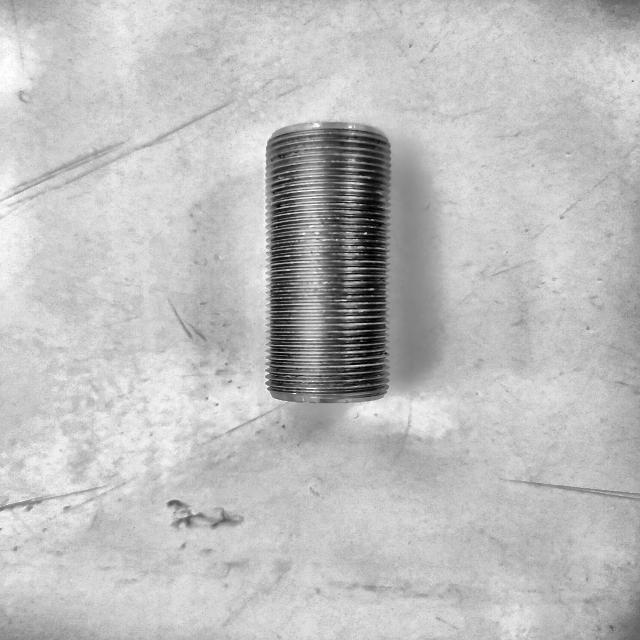Normal: (262, 122, 396, 408)
